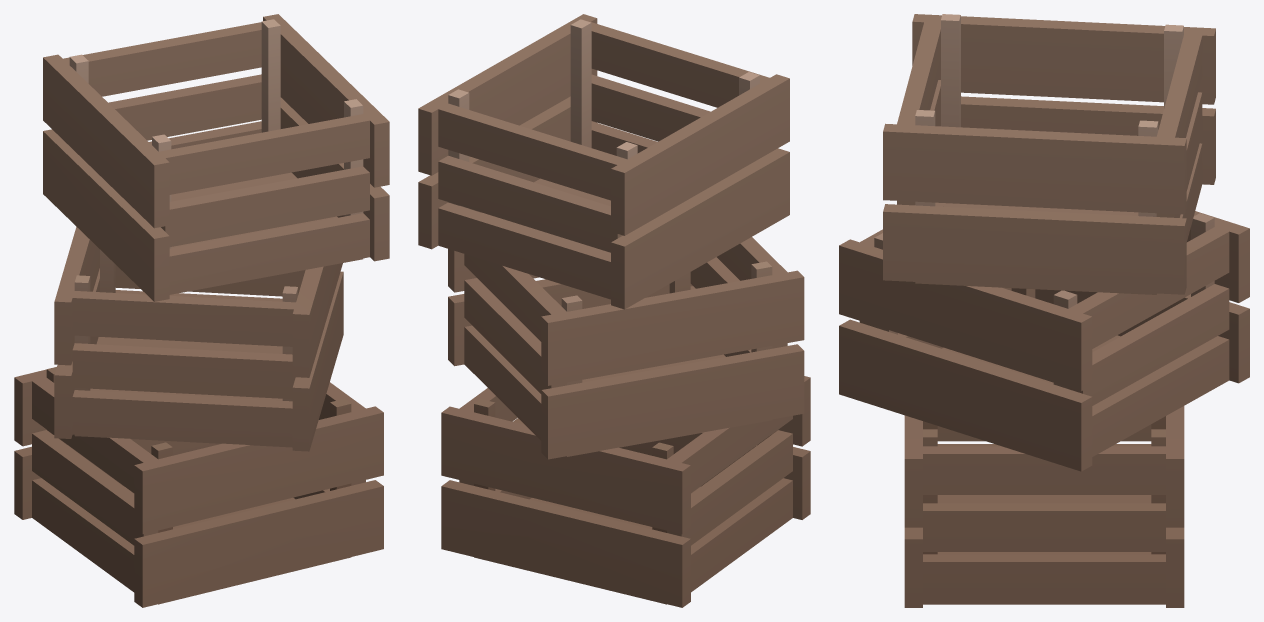
Rendered from boxes.glb.
The picture shows the model from 3 angles, left to right: view 1: azimuth 30°, elevation 25°; view 2: azimuth 150°, elevation 25°; view 3: azimuth 270°, elevation 25°; orthographic projection. The views are drawn at different scales.
Visible parts, largest first — view 1: Boxes.001; view 2: Boxes.001; view 3: Boxes.001.
Part boxes in pixels (x1,y1,x2,y2): Boxes.001: (14,14,389,607); Boxes.001: (418,14,810,607); Boxes.001: (839,14,1249,607).
Bounding box in the file's own units: 0.8509 × 1.14 × 0.8605.
1 material, 1 textured.
